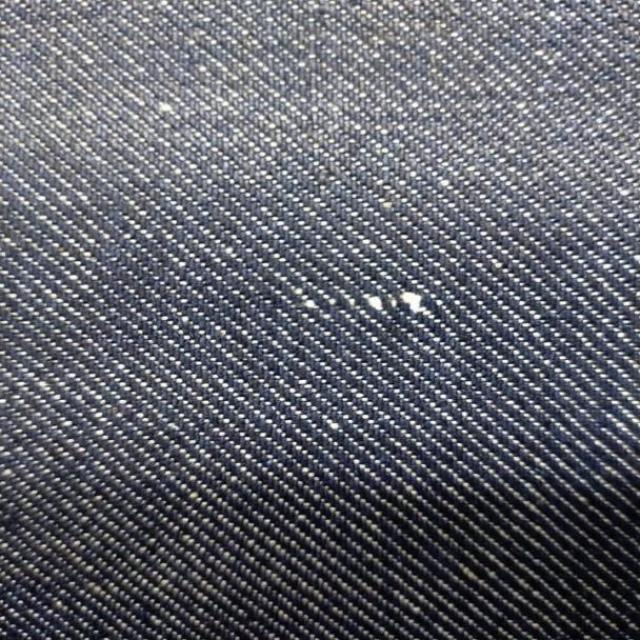Knot: (363, 292, 426, 313)
